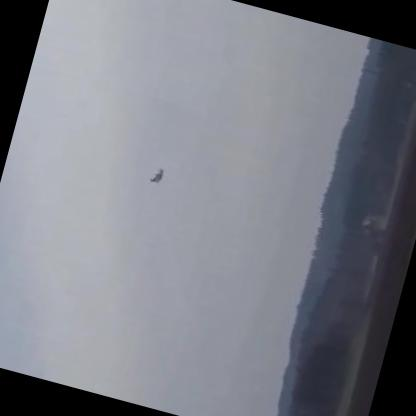plane: (150, 165, 167, 186)
